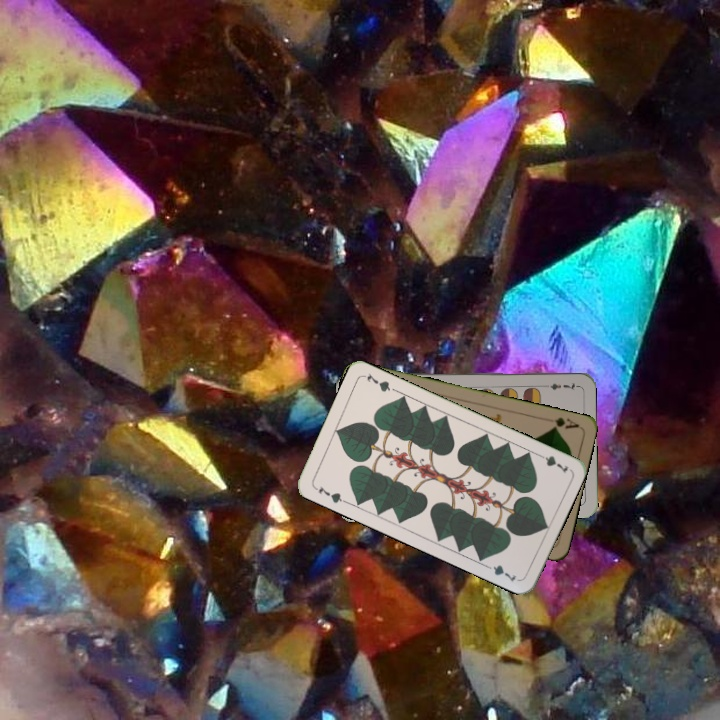E7: (539, 379, 579, 393)
G7: (533, 449, 571, 476), (310, 482, 349, 506)
GA: (547, 413, 581, 432)
